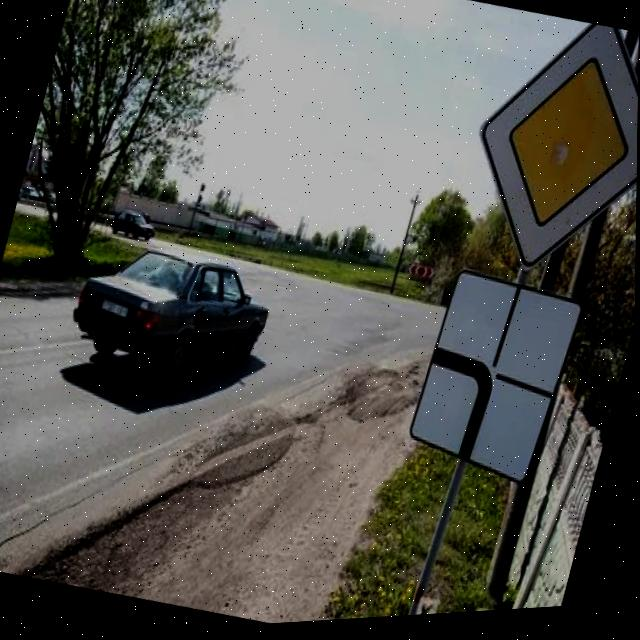signs: (450, 9, 640, 304)
